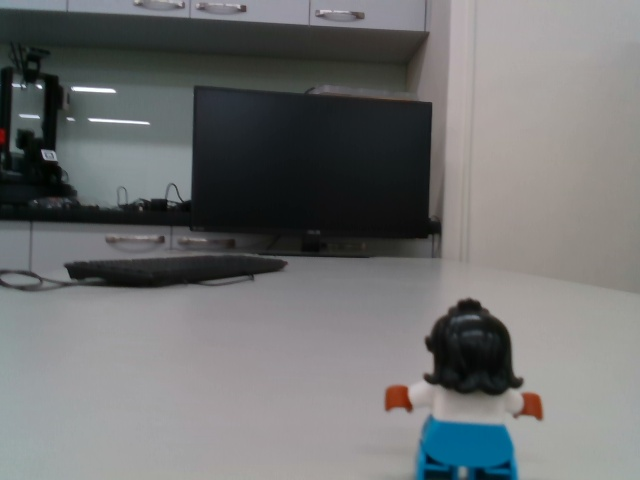people: (381, 295, 545, 480)
